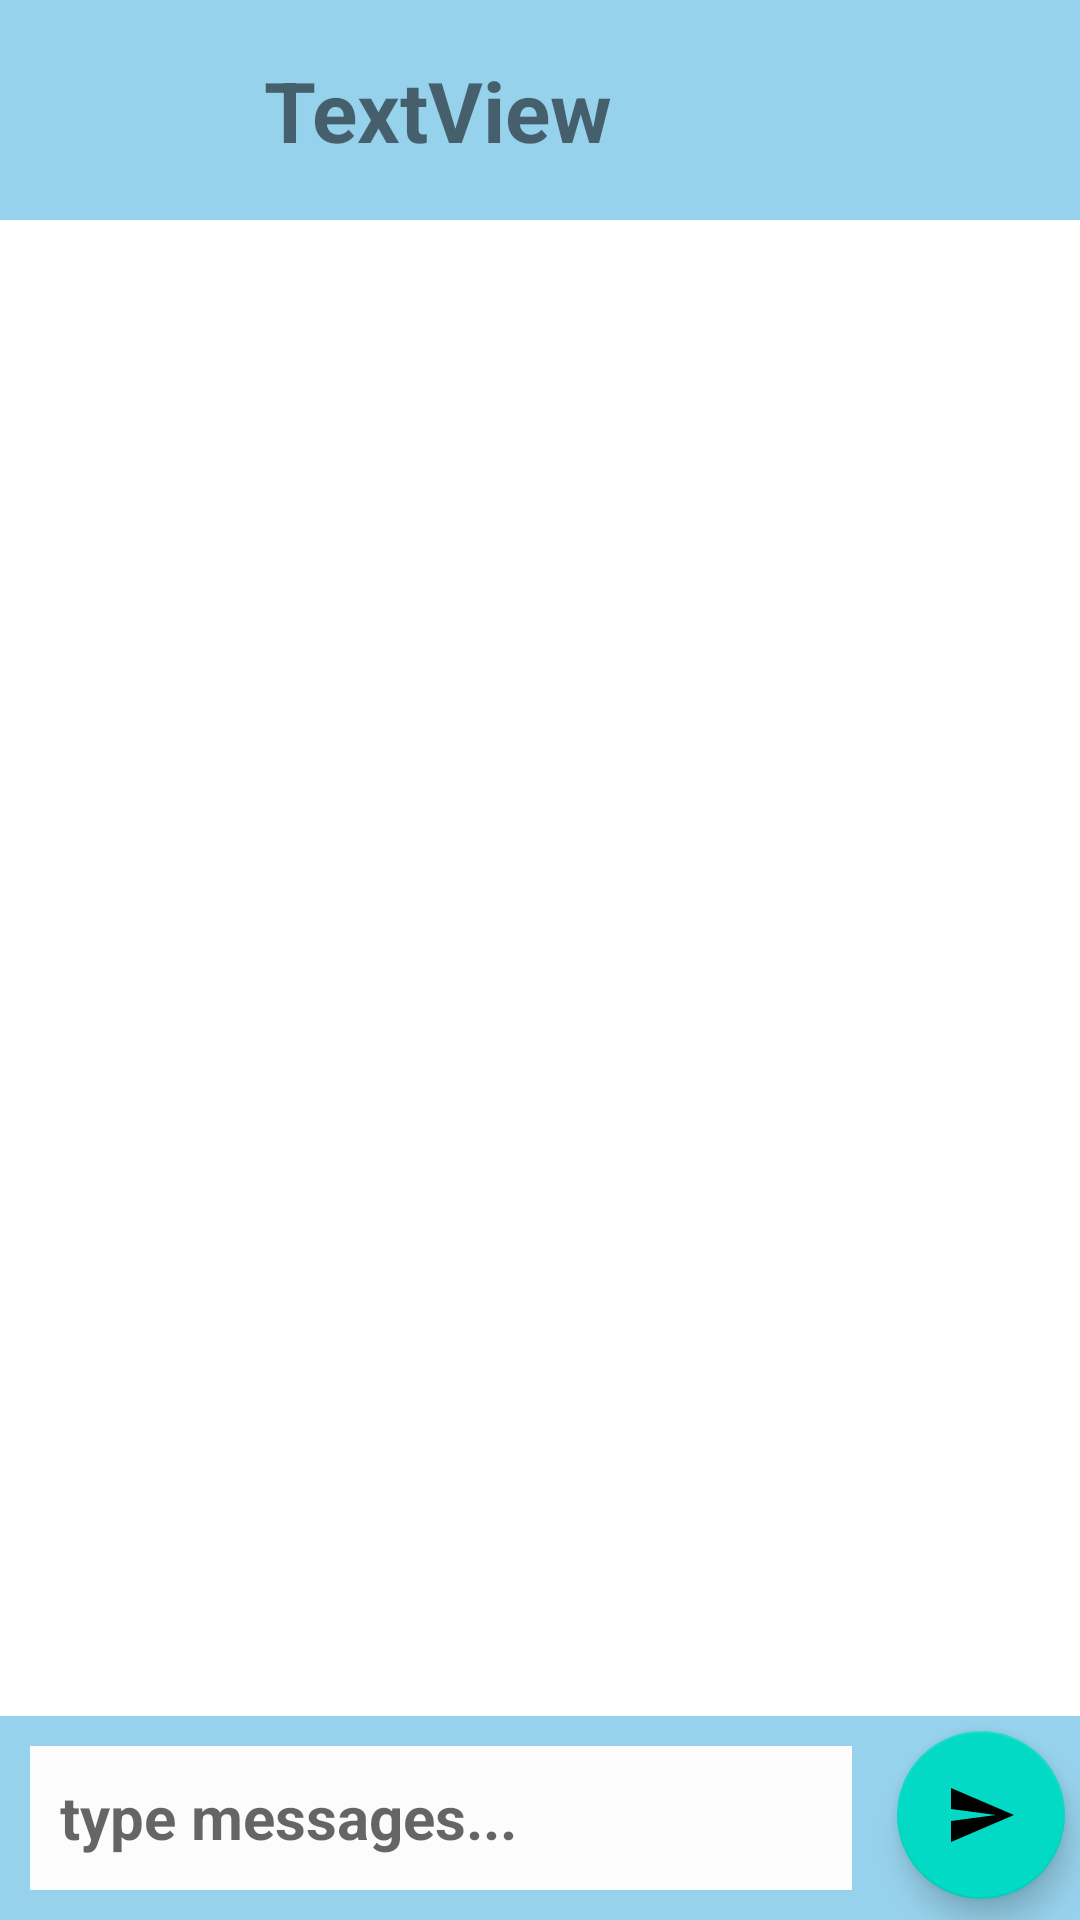

Icon bounding boxes for this 1080×1920 phone screenshot, format (x1, y1, x2, y2):
send: (897, 1731, 1065, 1899)
